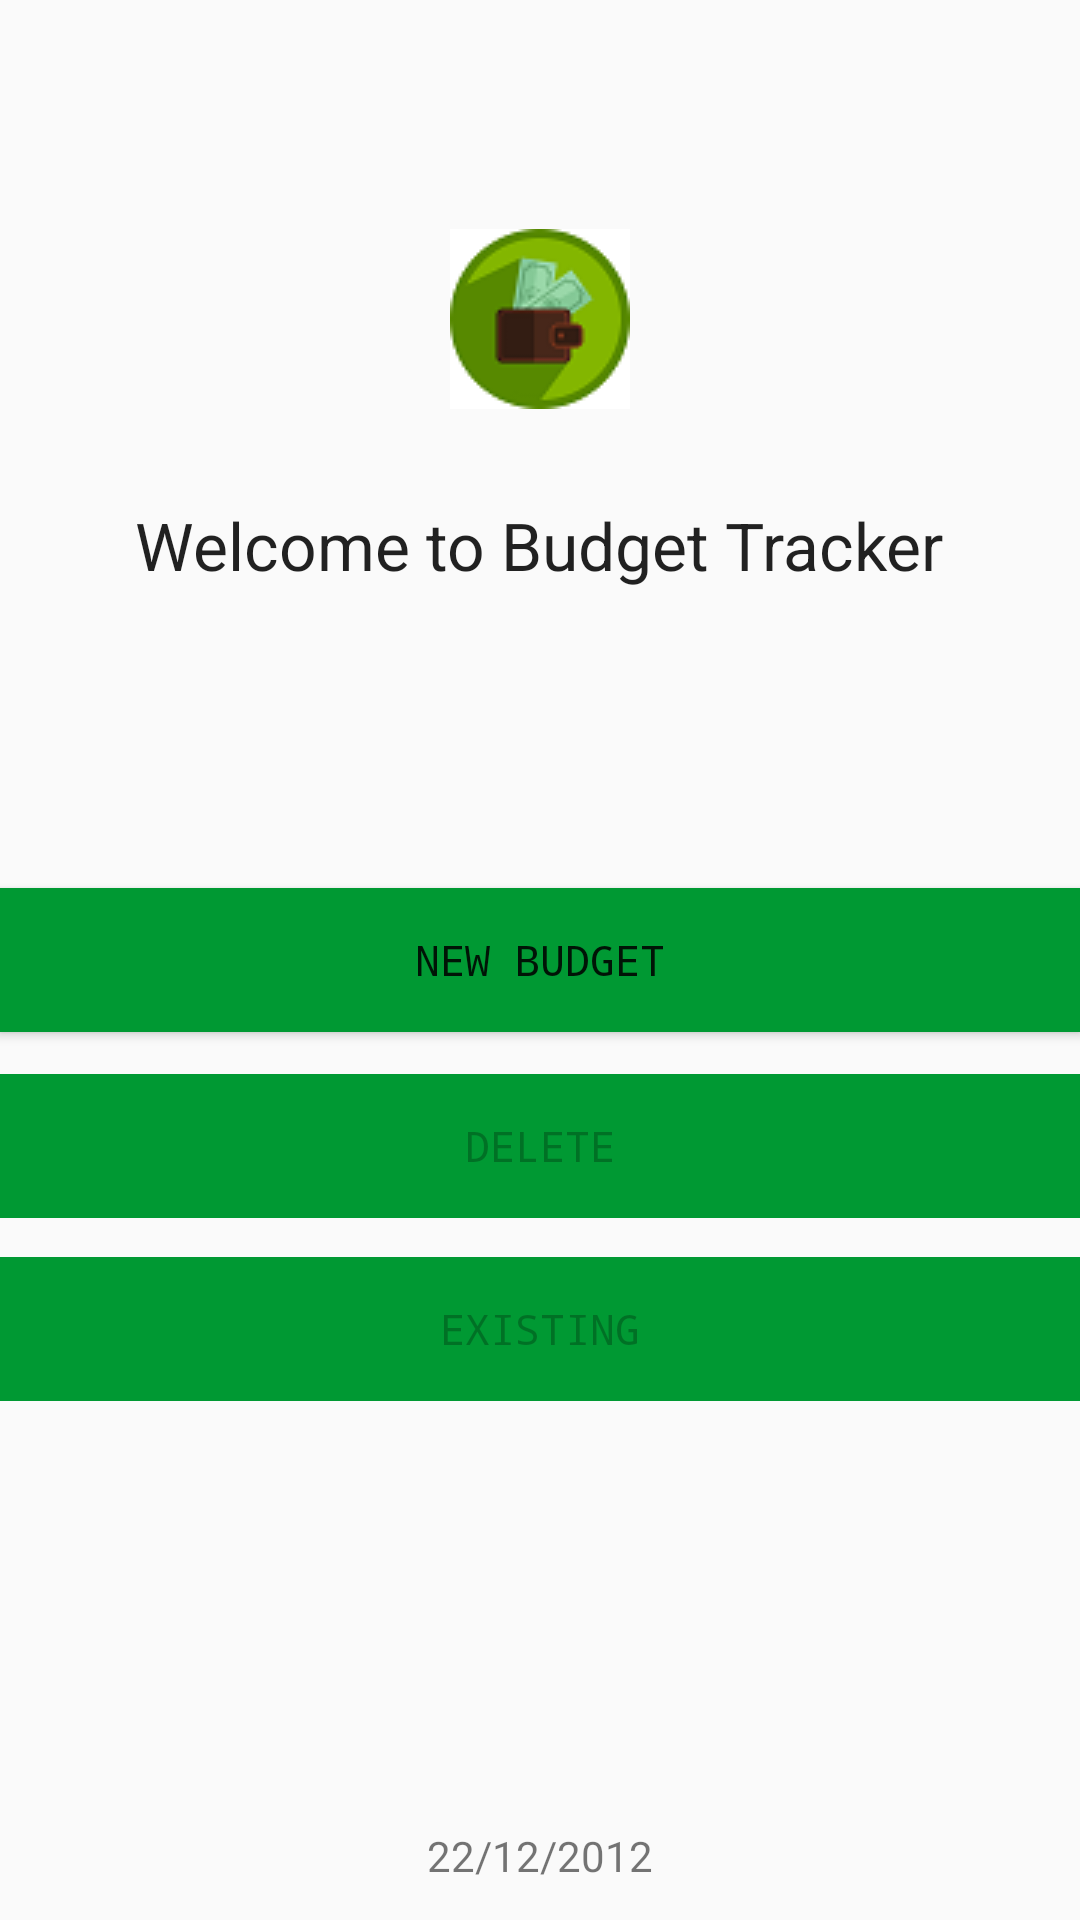

Icons on this 1080w x 1920h Android screen, each with the point to tap as [x,y]:
money: [540,319]
